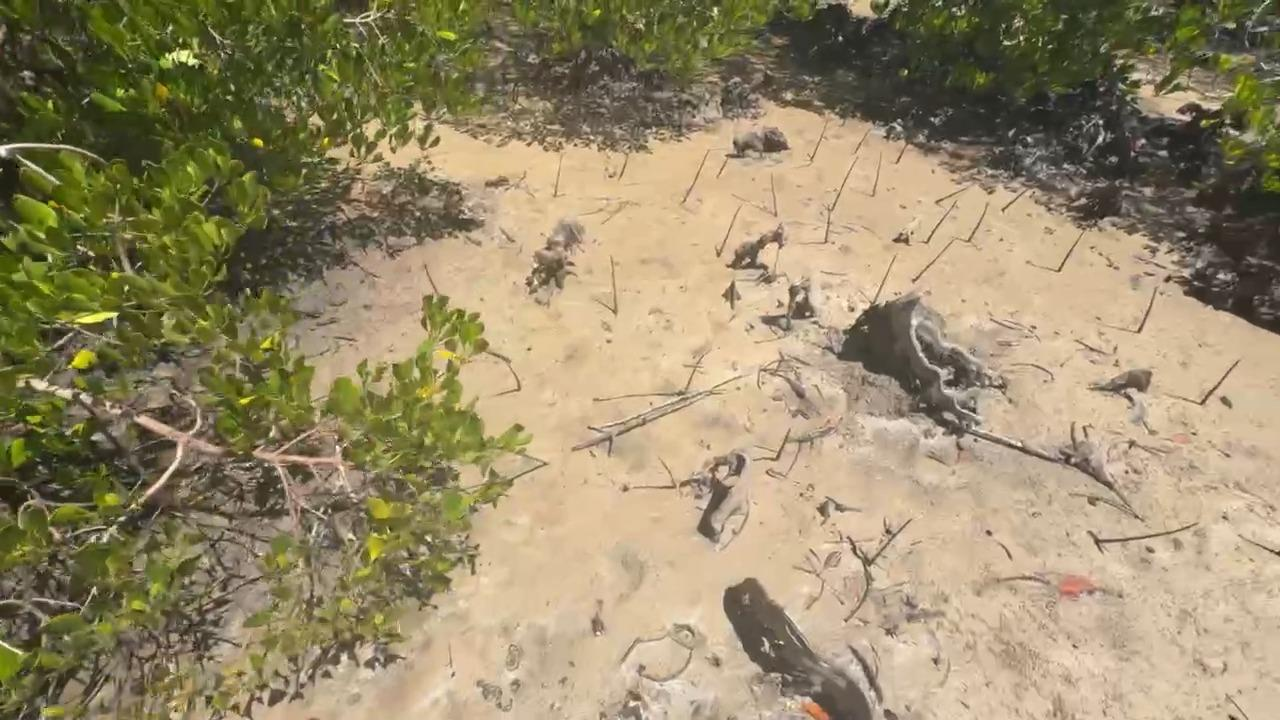Tree: (868, 517, 914, 567), (1096, 522, 1197, 543), (912, 238, 957, 283), (1201, 359, 1239, 406), (683, 148, 711, 203), (925, 200, 957, 244), (833, 156, 859, 210), (872, 253, 898, 305), (717, 205, 742, 258), (684, 348, 711, 394), (1057, 230, 1085, 272), (1137, 285, 1158, 333), (967, 201, 989, 244), (936, 184, 974, 204), (812, 120, 829, 159), (1002, 187, 1028, 211), (609, 254, 619, 316), (504, 356, 520, 392), (424, 263, 440, 298), (775, 427, 791, 461), (658, 457, 676, 487), (554, 153, 564, 196), (873, 153, 883, 196), (769, 172, 778, 218), (855, 127, 869, 154), (896, 139, 910, 161), (716, 157, 729, 177), (620, 154, 629, 177), (825, 204, 830, 242)
